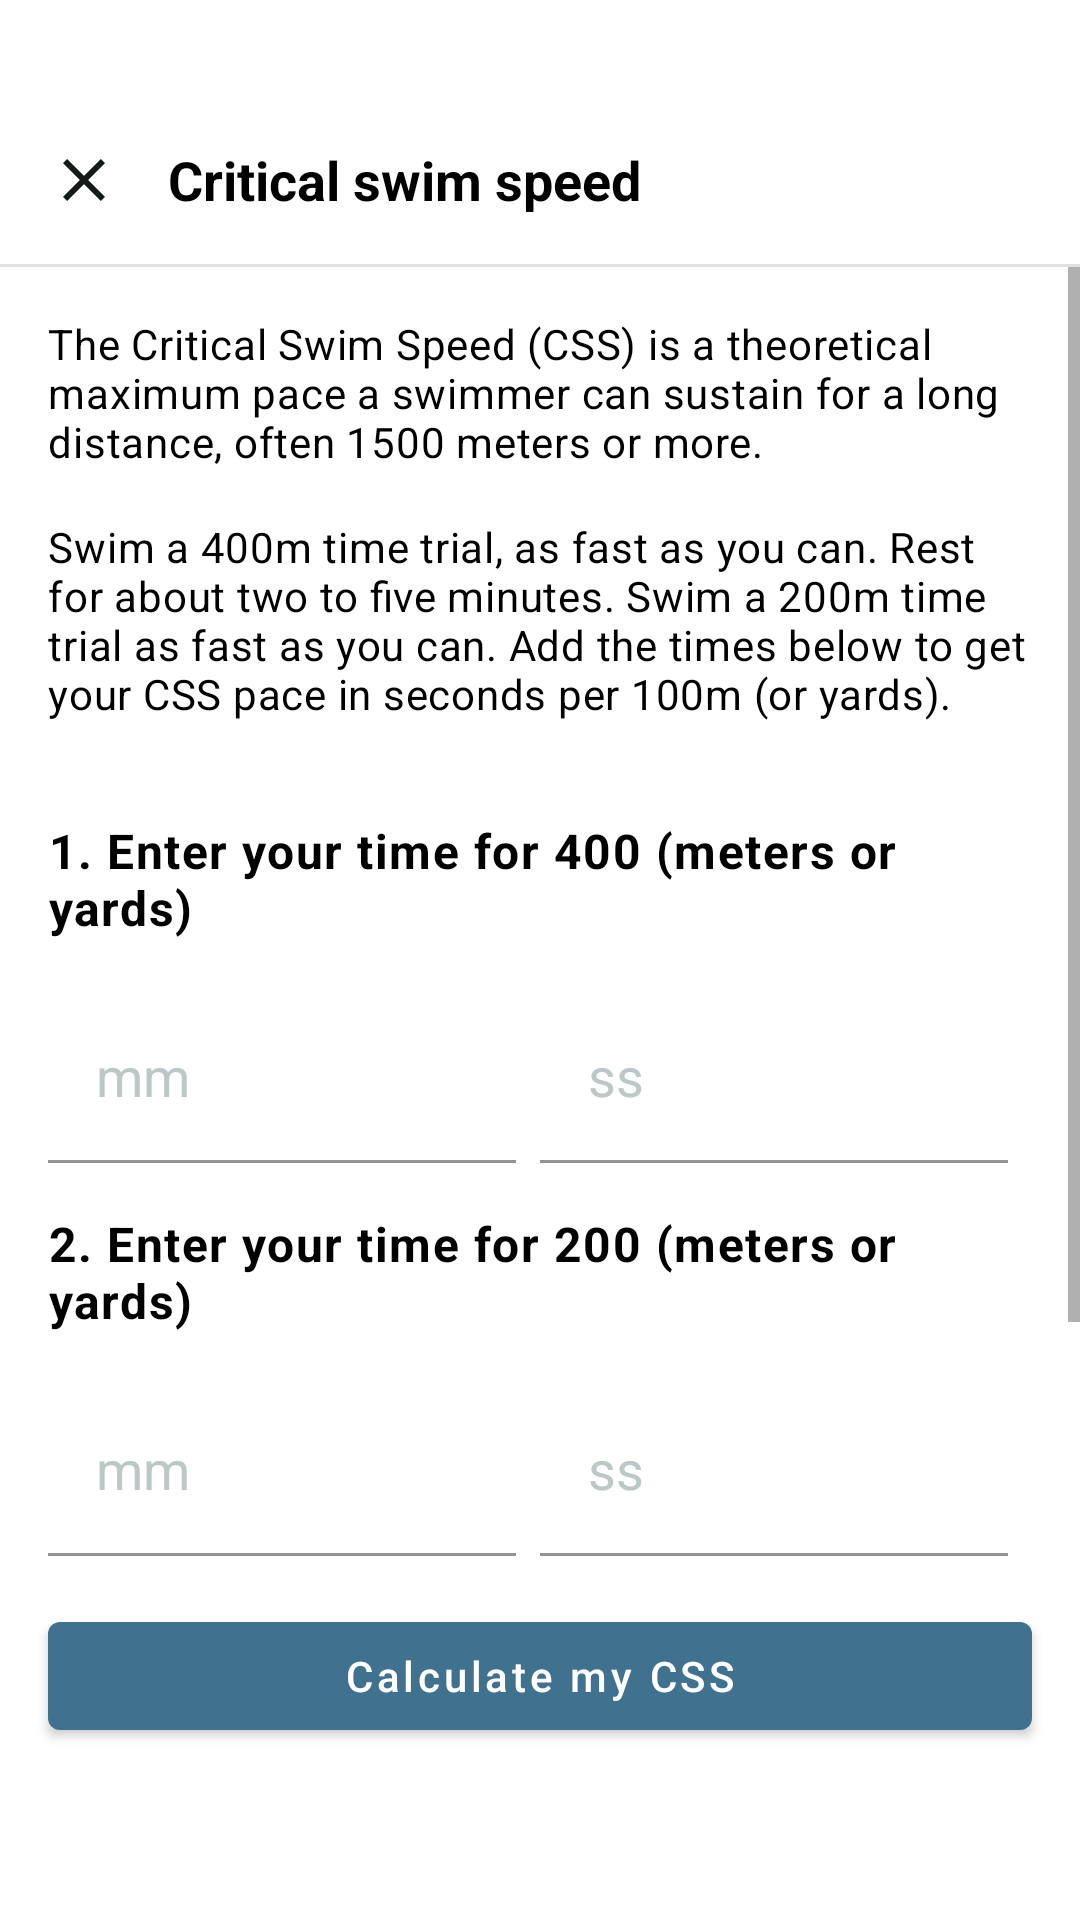

Point at icon controls on the screen. Image size 1080 × 1920, points as [x,y].
close: [84,180]
